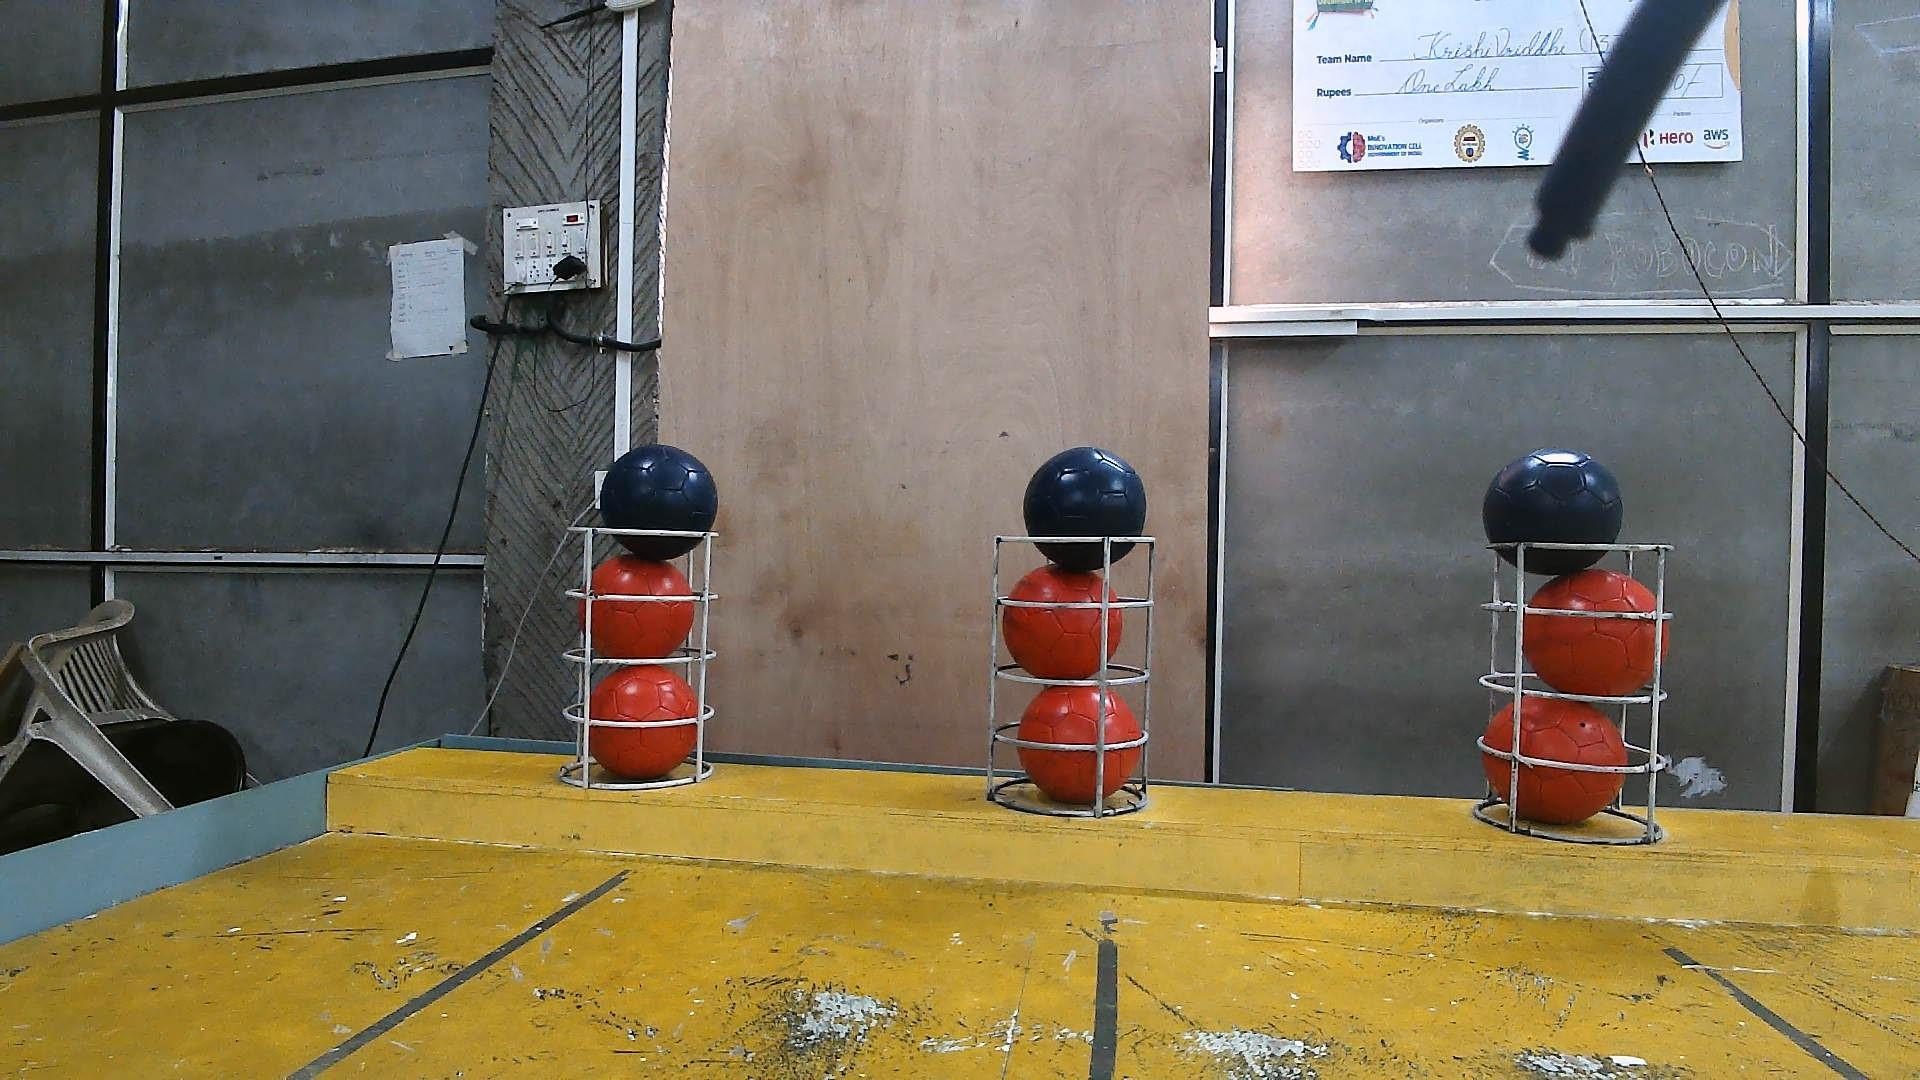dhoka: (1481, 450, 1623, 578), (1023, 446, 1147, 574), (600, 446, 716, 563)
laale: (1481, 694, 1627, 825), (1523, 566, 1668, 698), (1017, 686, 1139, 806), (1001, 563, 1121, 679), (585, 663, 702, 781), (578, 555, 694, 661)
